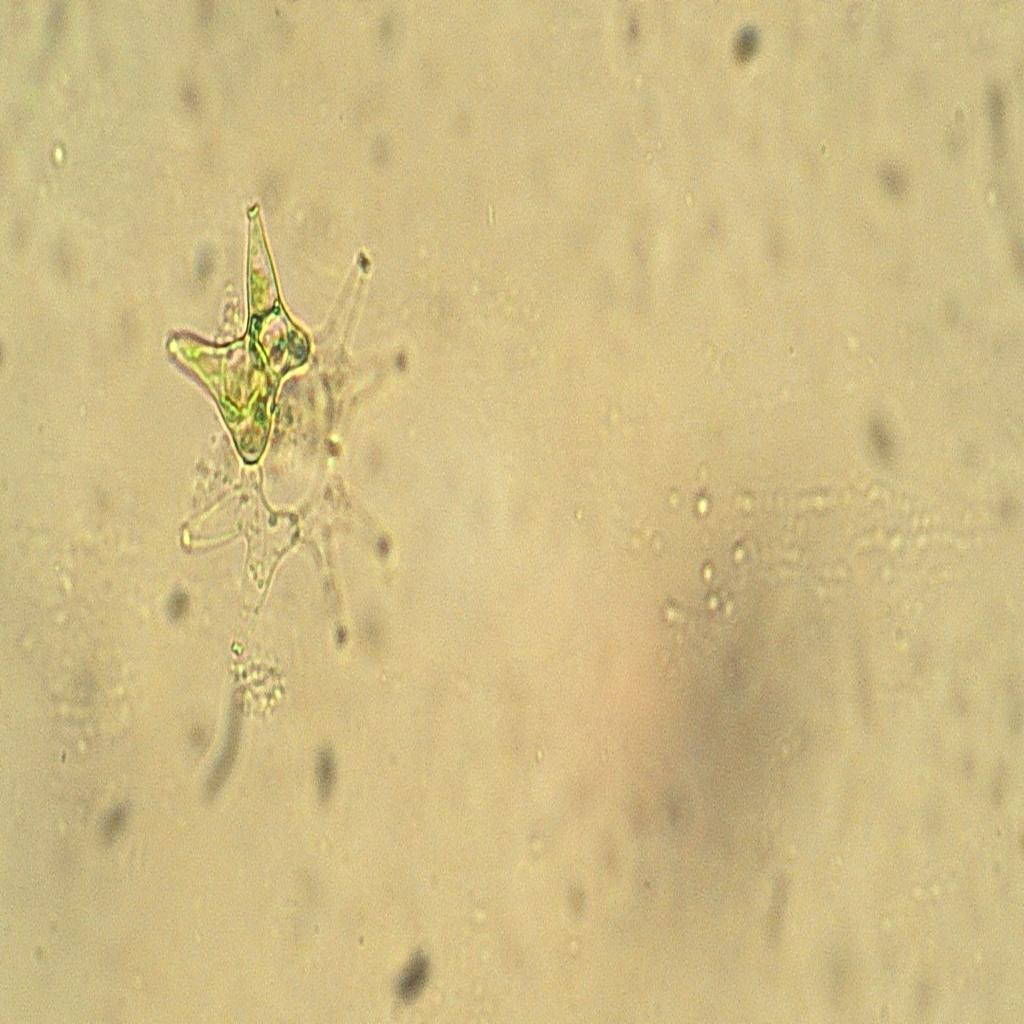Pediastrum_75TH: (162, 191, 436, 716)
